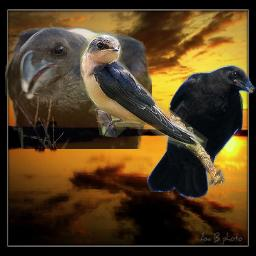Crow: (5, 26, 152, 149), (147, 65, 256, 200)
Swallow: (80, 28, 210, 152)
